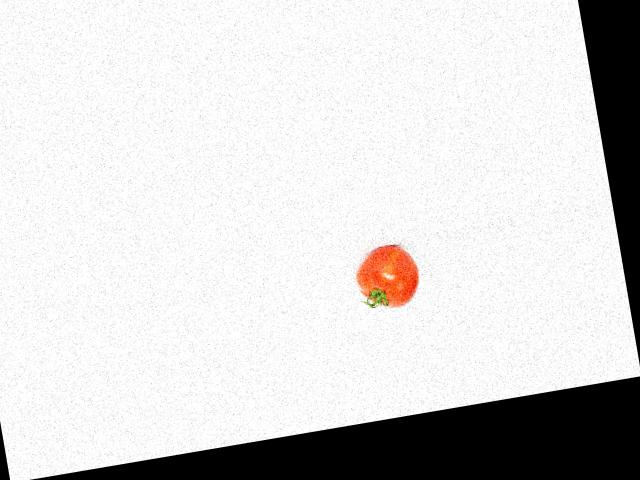tomato: (352, 241, 424, 314)
